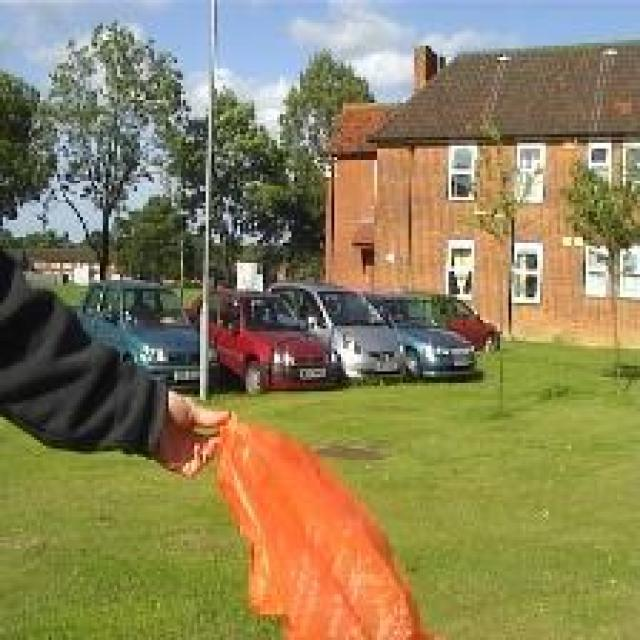other: (205, 403, 440, 631)
